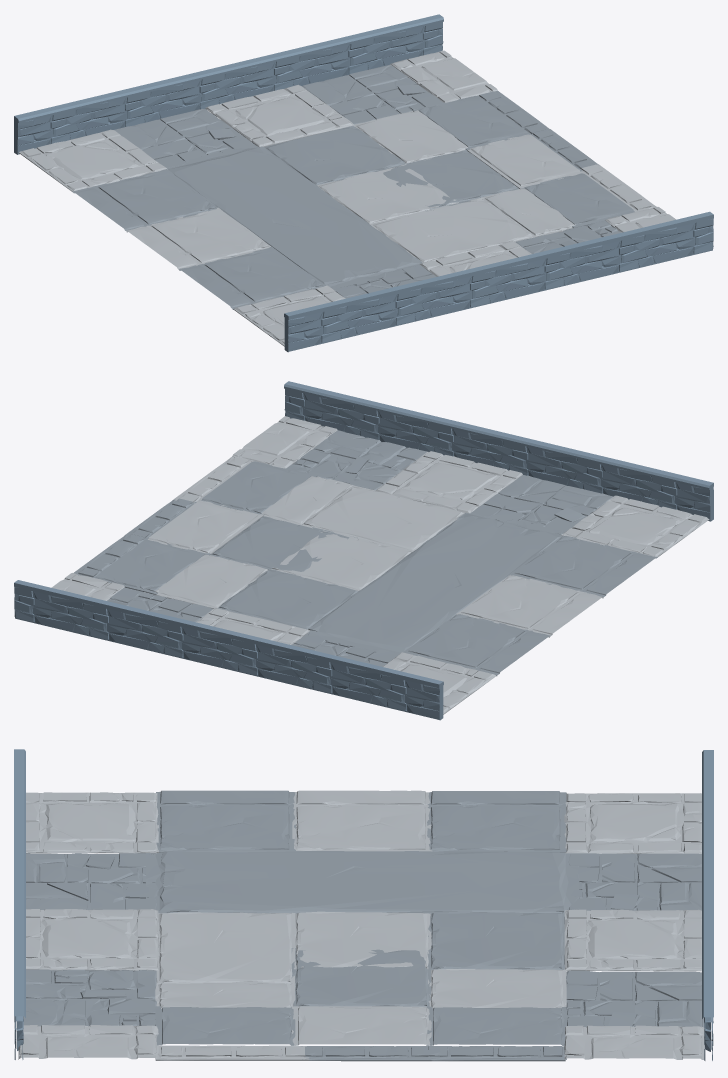
Rendered from TrackStraight_01.glb.
3 renders of one model, top to bottom at view 1: azimuth 30°, elevation 25°; view 2: azimuth 150°, elevation 25°; view 3: azimuth 270°, elevation 25°, orthographic. The views are drawn at different scales.
Visible parts, largest first — view 1: StraightKitPavingDark01, StraightKitPavingSlate01, StraightKitWallNeutral01, StraightKitPavingDarkEndBand01, StraightKitPavingSlateEndBand01; view 2: StraightKitPavingDark01, StraightKitPavingSlate01, StraightKitWallNeutral01, StraightKitPavingDarkEndBand01, StraightKitPavingSlateEndBand01; view 3: StraightKitPavingDark01, StraightKitPavingSlate01, StraightKitWallNeutral01, StraightKitPavingDarkEndBand01, StraightKitPavingSlateEndBand01.
Part boxes in pixels (x1,y1,x2,y2): StraightKitPavingDark01: (72,64,634,309); StraightKitPavingSlate01: (18,50,675,346); StraightKitWallNeutral01: (14,14,713,352); StraightKitPavingDarkEndBand01: (477,91,598,171); StraightKitPavingSlateEndBand01: (579,164,656,211); StraightKitPavingDark01: (78,430,657,676); StraightKitPavingSlate01: (51,416,709,714); StraightKitWallNeutral01: (14,381,713,720); StraightKitPavingDarkEndBand01: (74,498,196,577); StraightKitPavingSlateEndBand01: (173,456,252,503); StraightKitPavingDark01: (23,790,704,1059); StraightKitPavingSlate01: (18,790,704,1059); StraightKitWallNeutral01: (14,749,713,1060); StraightKitPavingDarkEndBand01: (301,1046,565,1061); StraightKitPavingSlateEndBand01: (155,1045,309,1060).
Size of what is drawn, in the model's own units: 54.22 by 4.8 by 60.61.
